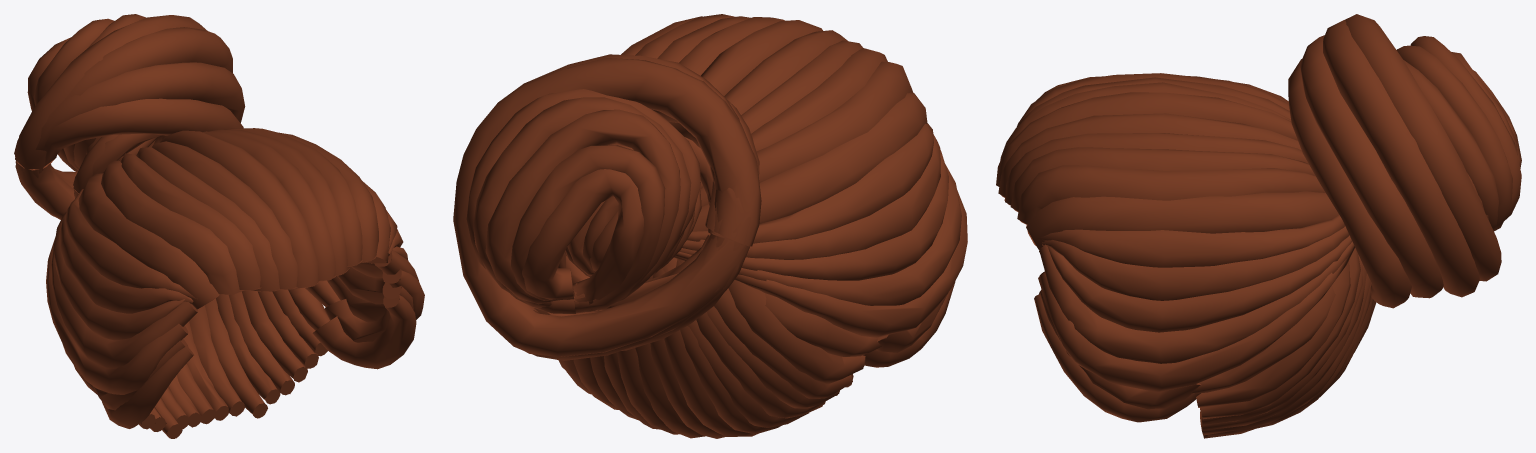
Rendered from hair-7-81da66cf.glb.
3 renders of one model, left to right at view 1: azimuth 30°, elevation 25°; view 2: azimuth 150°, elevation 25°; view 3: azimuth 270°, elevation 25°, orthographic. The views are drawn at different scales.
Parts seen in each view (by area): view 1: hair_7.001; view 2: hair_7.001; view 3: hair_7.001.
Part boxes in pixels (bbox=[...]): hair_7.001: bbox=[14, 14, 424, 438]; hair_7.001: bbox=[453, 14, 967, 438]; hair_7.001: bbox=[996, 14, 1521, 438].
Size of the model in its own units: 1.8 by 2 by 2.46.
